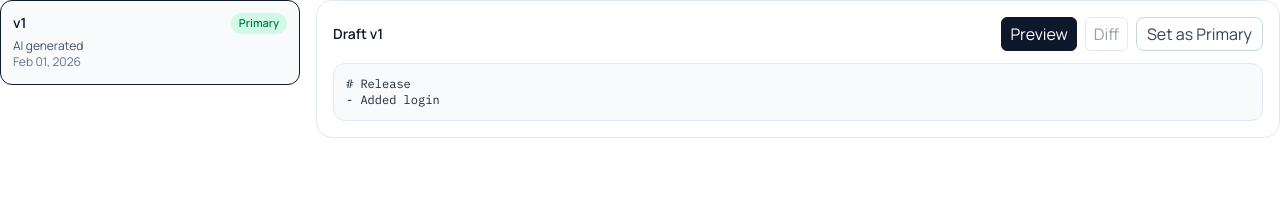
Test case: ReleaseDraftsTab › promotes selected draft to primary
The image size is (1280, 217).
Click the button "Set as Primary" at [1200, 34], box top-left (1136, 17), bottom-right (1263, 51)
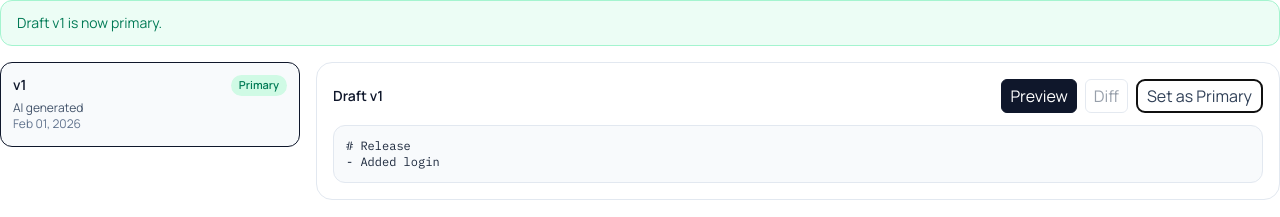
Check: the text "Draft v1 is now primary." is shown, box top-left (0, 0), bottom-right (1279, 46)
